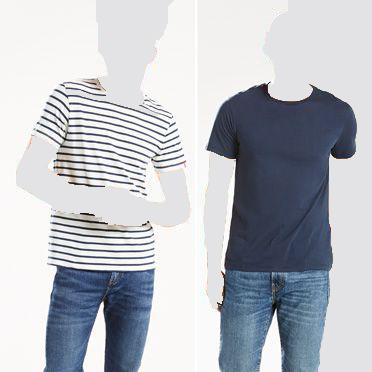teeshirt: (29, 76, 190, 275), (205, 81, 359, 283)
